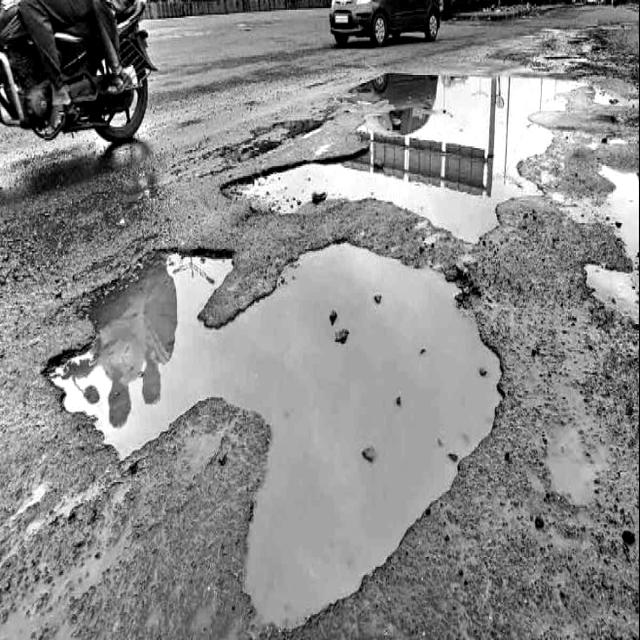pathole: (55, 245, 500, 626), (242, 73, 580, 242), (355, 73, 437, 135), (358, 73, 437, 133), (539, 27, 619, 77), (600, 165, 639, 260), (548, 425, 594, 505), (585, 264, 639, 323), (236, 138, 281, 161), (278, 119, 322, 138), (594, 88, 619, 105)
